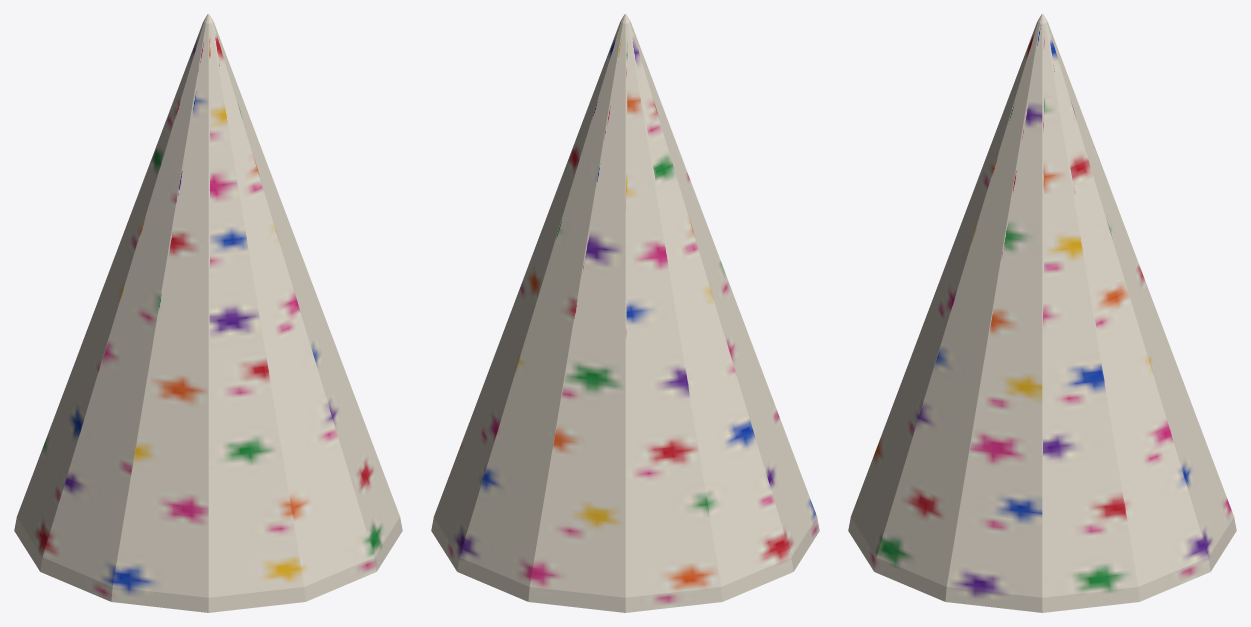
File: party_hat_stars.glb
3 renders of one model, left to right at view 1: azimuth 30°, elevation 25°; view 2: azimuth 150°, elevation 25°; view 3: azimuth 270°, elevation 25°, orthographic.
Visible parts, largest first — view 1: party_hat_stars_body; view 2: party_hat_stars_body; view 3: party_hat_stars_body.
Part boxes in pixels (x1,y1,x2,y2): party_hat_stars_body: [14, 14, 402, 612]; party_hat_stars_body: [431, 14, 819, 612]; party_hat_stars_body: [848, 14, 1236, 612].
Bounding box in the file's own units: 0.15 × 0.22 × 0.15.
Materials: 2 (2 with a texture image).
